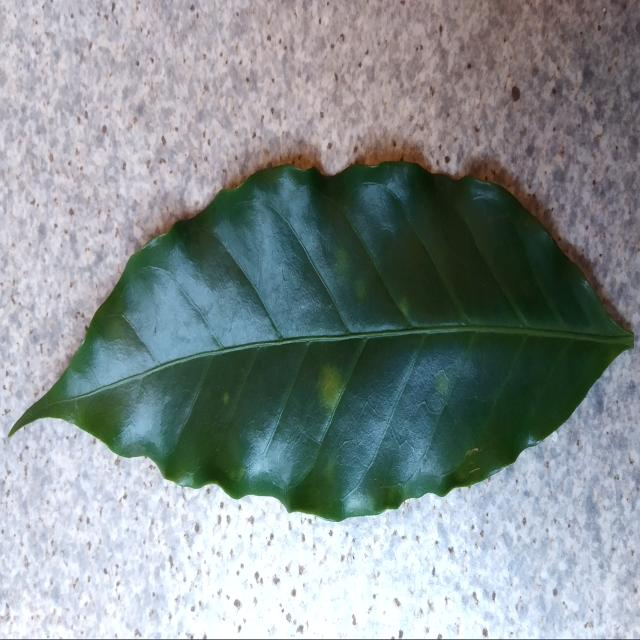Enfermedad-Roya: (14, 161, 634, 524)
